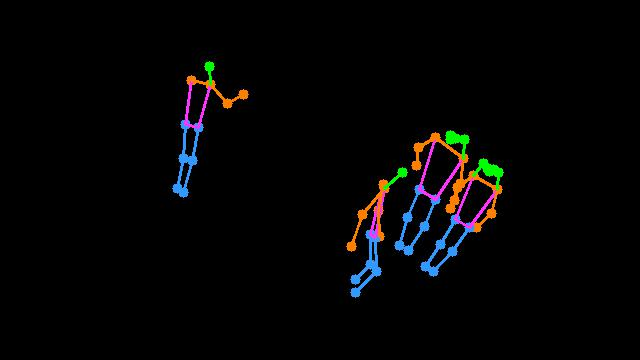normal: (332, 113, 519, 309)
